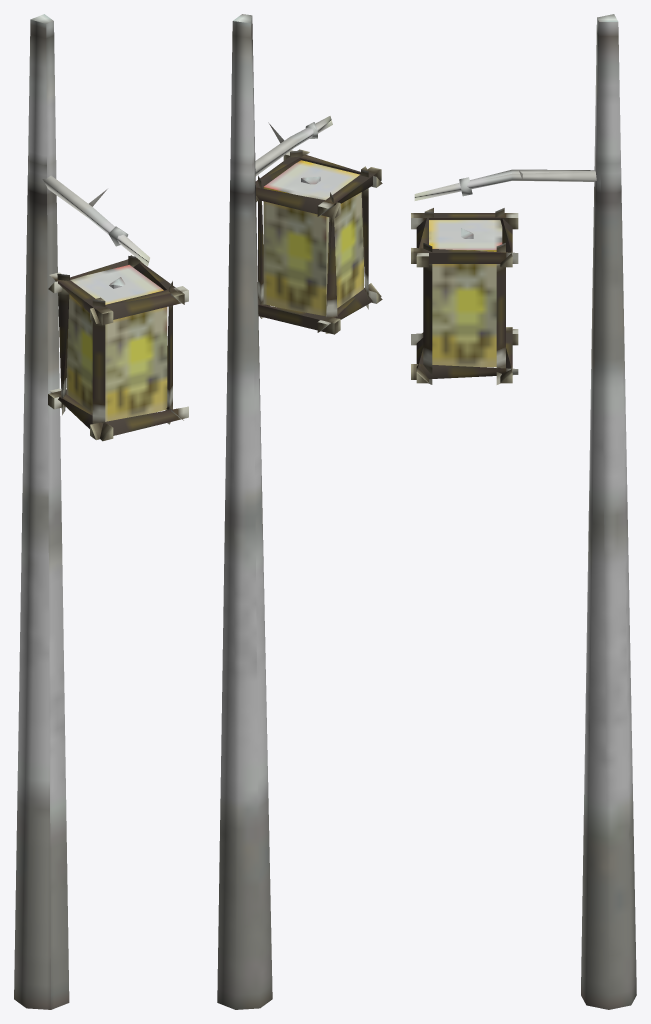
The picture shows the model from 3 angles, left to right: view 1: azimuth 30°, elevation 25°; view 2: azimuth 150°, elevation 25°; view 3: azimuth 270°, elevation 25°; orthographic projection.
Visible parts, largest first — view 1: jomyoung08; view 2: jomyoung08; view 3: jomyoung08.
Part boxes in pixels (x1,y1,x2,y2): jomyoung08: [14, 14, 188, 1009]; jomyoung08: [217, 14, 382, 1009]; jomyoung08: [411, 14, 636, 1009].
Bounding box in the file's own units: 0.606 × 6.11 × 1.28.
